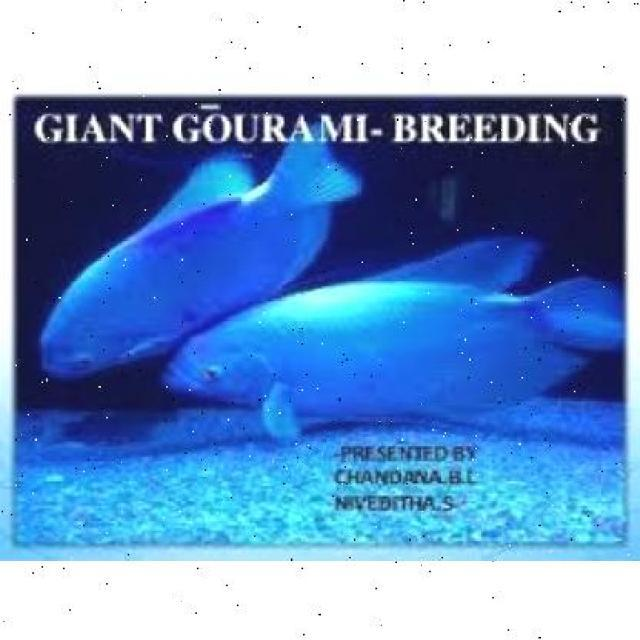gurame: (164, 249, 624, 440), (29, 156, 346, 367)
